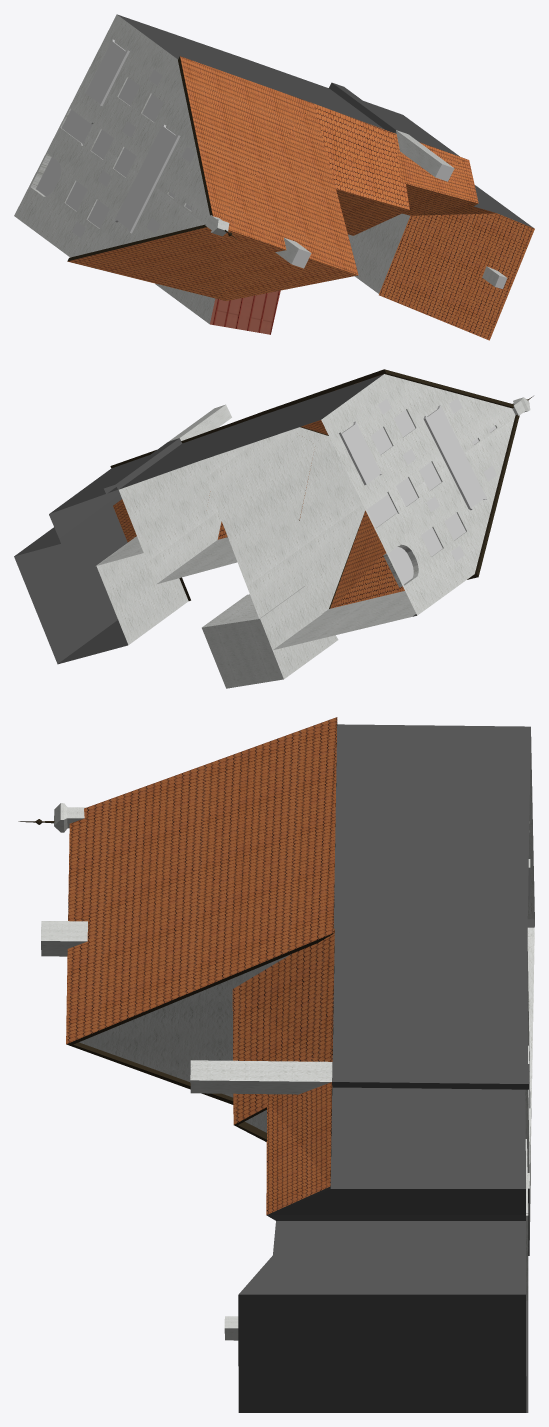
Rendered from Lai-38.obj.
3 renders of one model, top to bottom at view 1: azimuth 30°, elevation 25°; view 2: azimuth 150°, elevation 25°; view 3: azimuth 270°, elevation 25°, orthographic. The views are drawn at different scales.
Parts seen in each view (by area): view 1: Lai_38; view 2: Lai_38; view 3: Lai_38.
Boxes of the visible parts, <box> form: Lai_38: <box>14,14,534,340</box>; Lai_38: <box>14,369,533,688</box>; Lai_38: <box>18,717,534,1412</box>.
Size of the model in its own units: 35.26 by 25.86 by 24.77.
